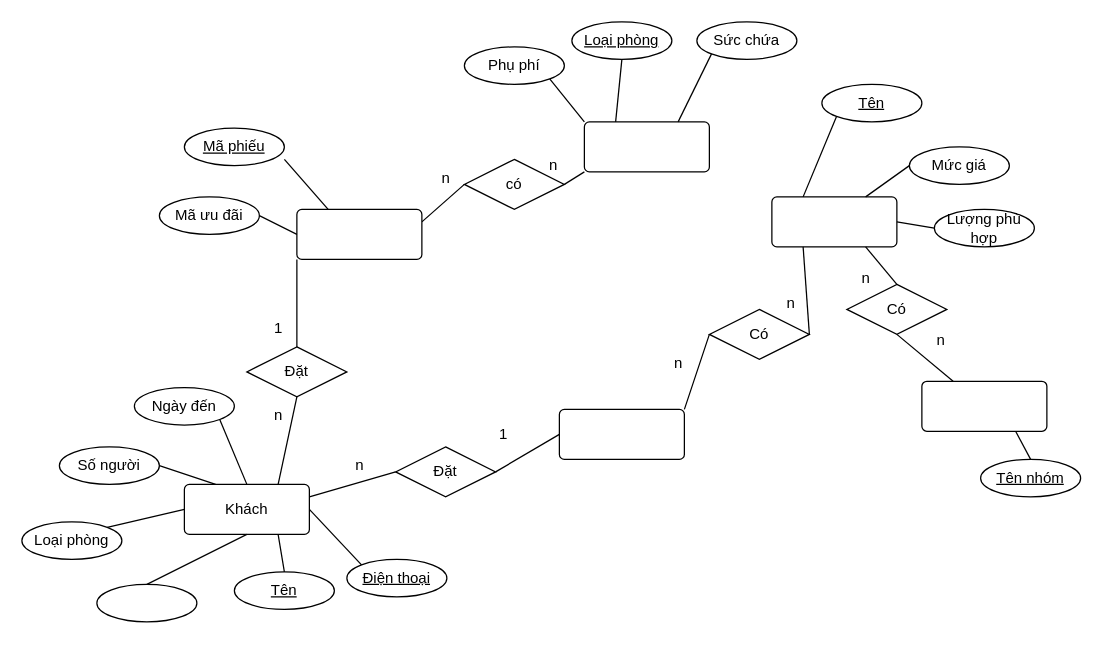
Image size: 1103x654. Some labels were removed from this diagram. Each missing label, with the centre of its shape:
"Bữa ăn" goes at [146,602].
"loại bữa ăn" goes at [984,405].
"Món ăn" goes at [834,221].
"Phiếu đặt bàn" goes at [359,233].
"Phòng ăn" goes at [646,146].
"Thực đơn" goes at [621,433].
